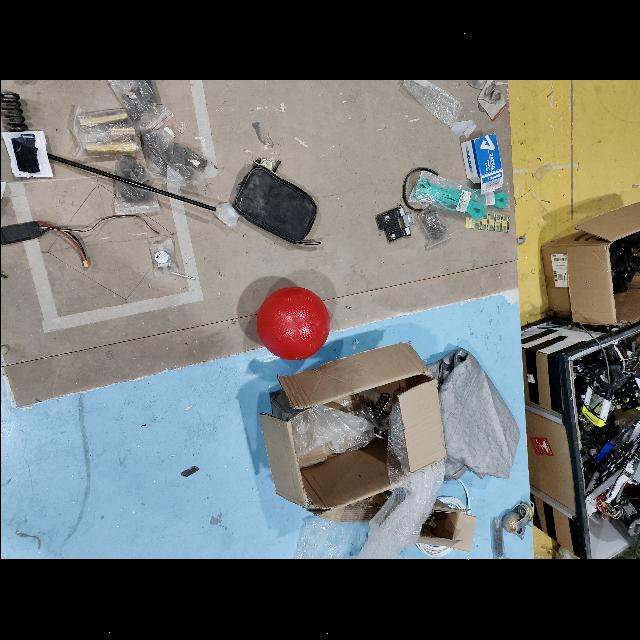R: (252, 286, 330, 362)
